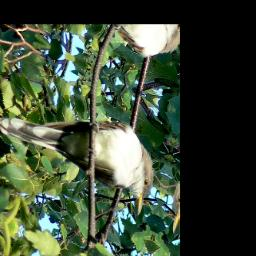Cuckoo: (0, 66, 163, 221)
